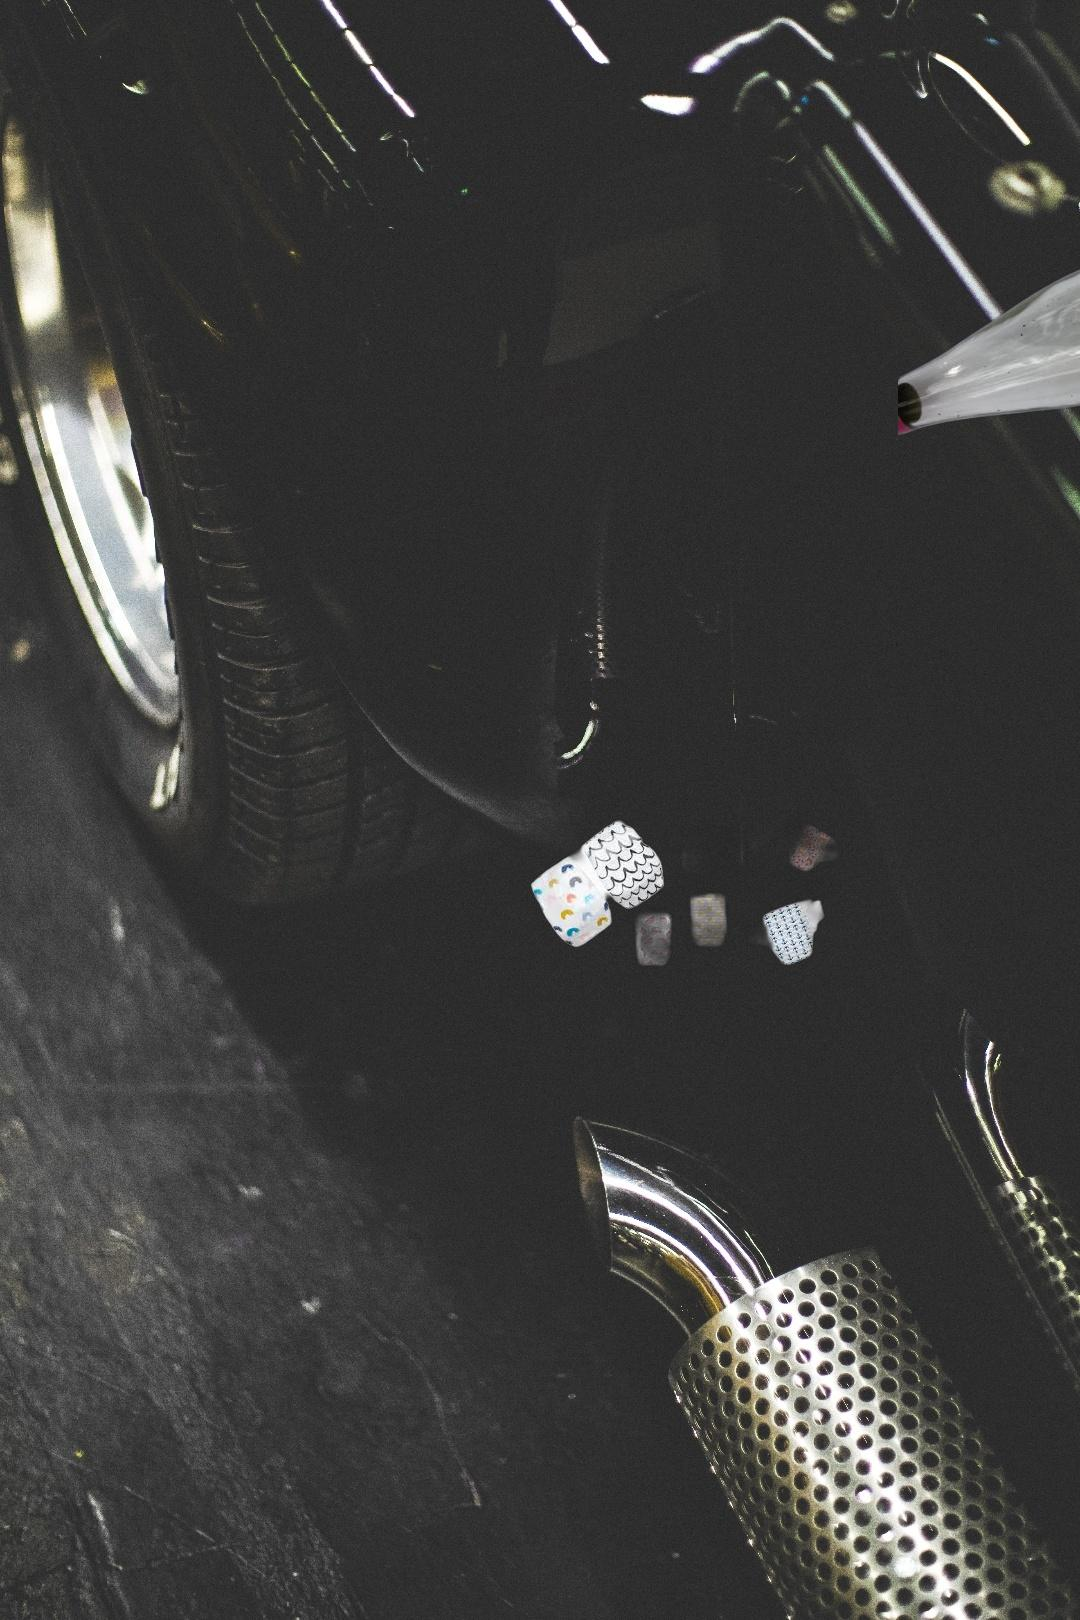glass: (898, 177, 1080, 439)
trash: (529, 812, 847, 972)
